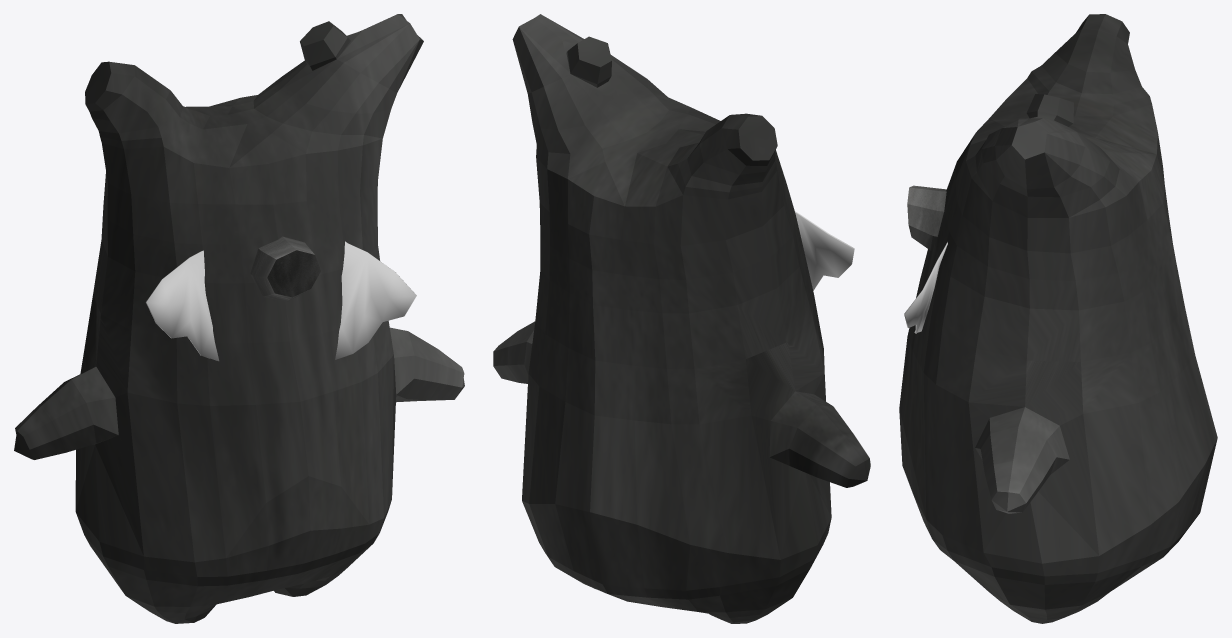
Rendered from frame_0138.obj.
3 views of the same model, side by side, from view 1: azimuth 30°, elevation 25°; view 2: azimuth 150°, elevation 25°; view 3: azimuth 270°, elevation 25° (orthographic). The views are drawn at different scales.
Visible parts, largest first — view 1: korok, leaf, nose; view 2: korok, leaf; view 3: korok, nose, leaf.
Boxes of the visible parts, left/top/right/bottom form: korok: left=14, top=14, right=464, bottom=623; leaf: left=146, top=241, right=416, bottom=361; nose: left=250, top=236, right=320, bottom=301; korok: left=493, top=14, right=870, bottom=623; leaf: left=795, top=211, right=854, bottom=290; korok: left=899, top=14, right=1217, bottom=623; nose: left=907, top=185, right=946, bottom=250; leaf: left=904, top=242, right=947, bottom=333.
Bounding box in the file's own units: 1.7 × 2.2 × 1.16.
